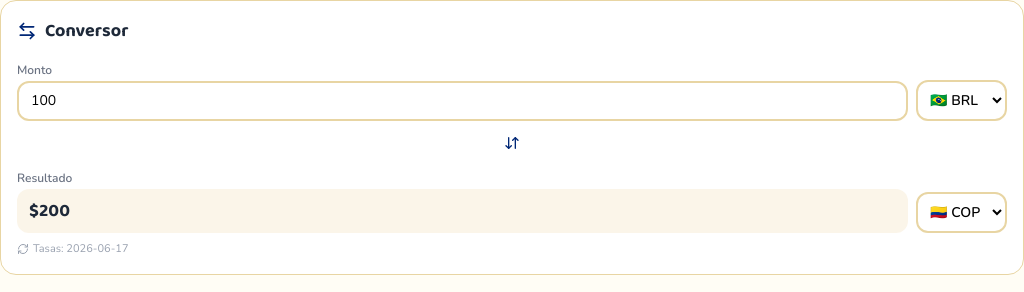
Test: ConversorCard › invertir monedas recalcula en sentido opuesto
Expected: the text "$200" is shown, top-left (17, 189), bottom-right (908, 233)
Click the button named "Invertir monedas": {"x": 512, "y": 143} top-left (494, 125), bottom-right (530, 161)
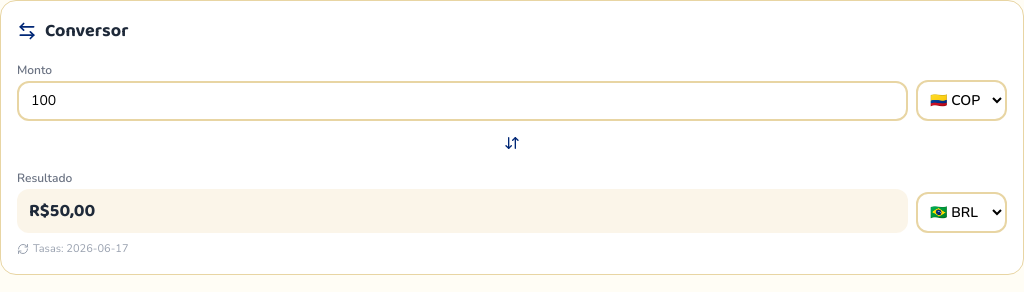
Now the text "R$50,00" is shown, box top-left (17, 189), bottom-right (908, 233)
